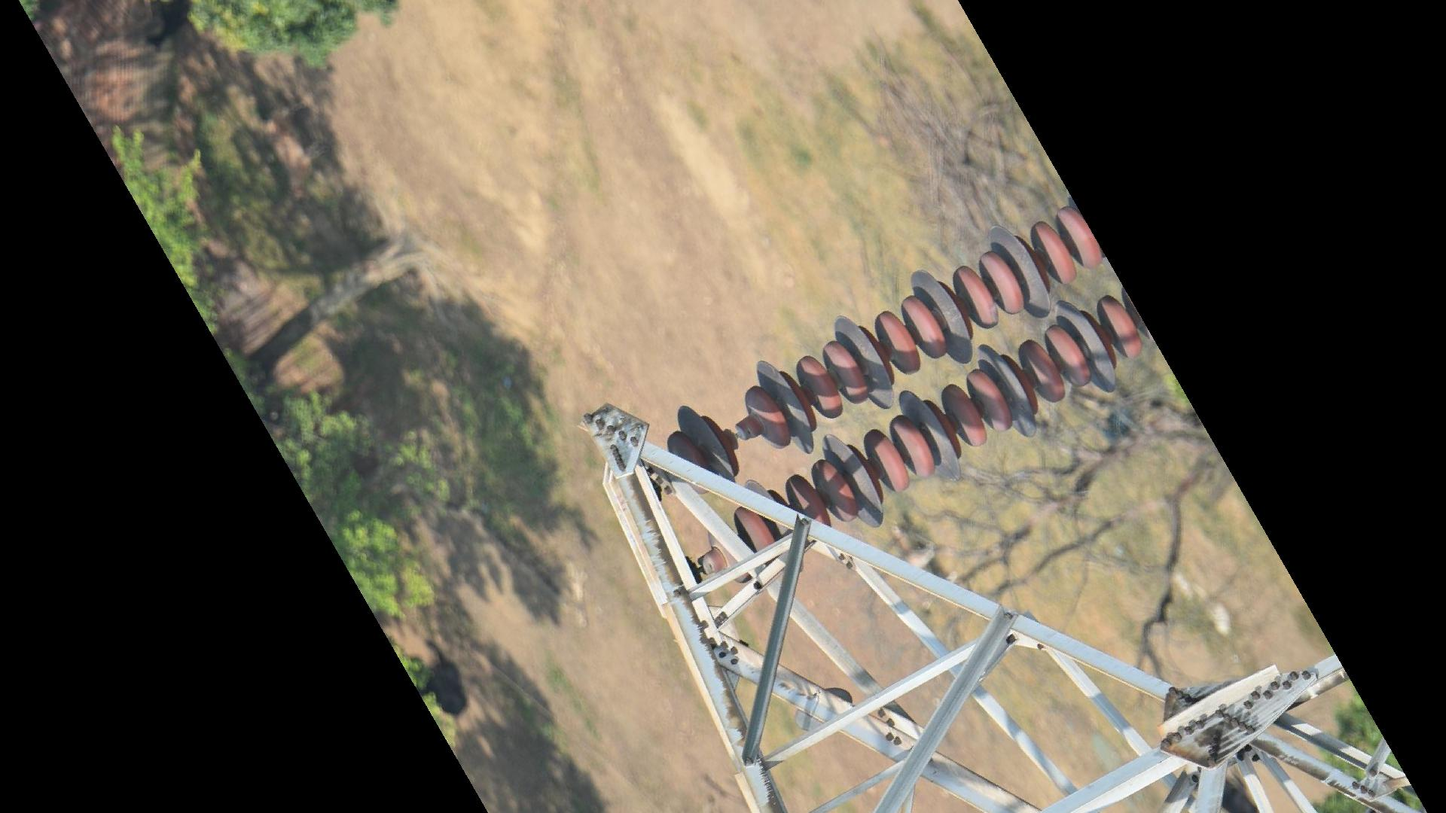insulator: (696, 284, 1152, 589), (664, 196, 1110, 492)
insulator_stringdrop: (690, 382, 793, 477)
